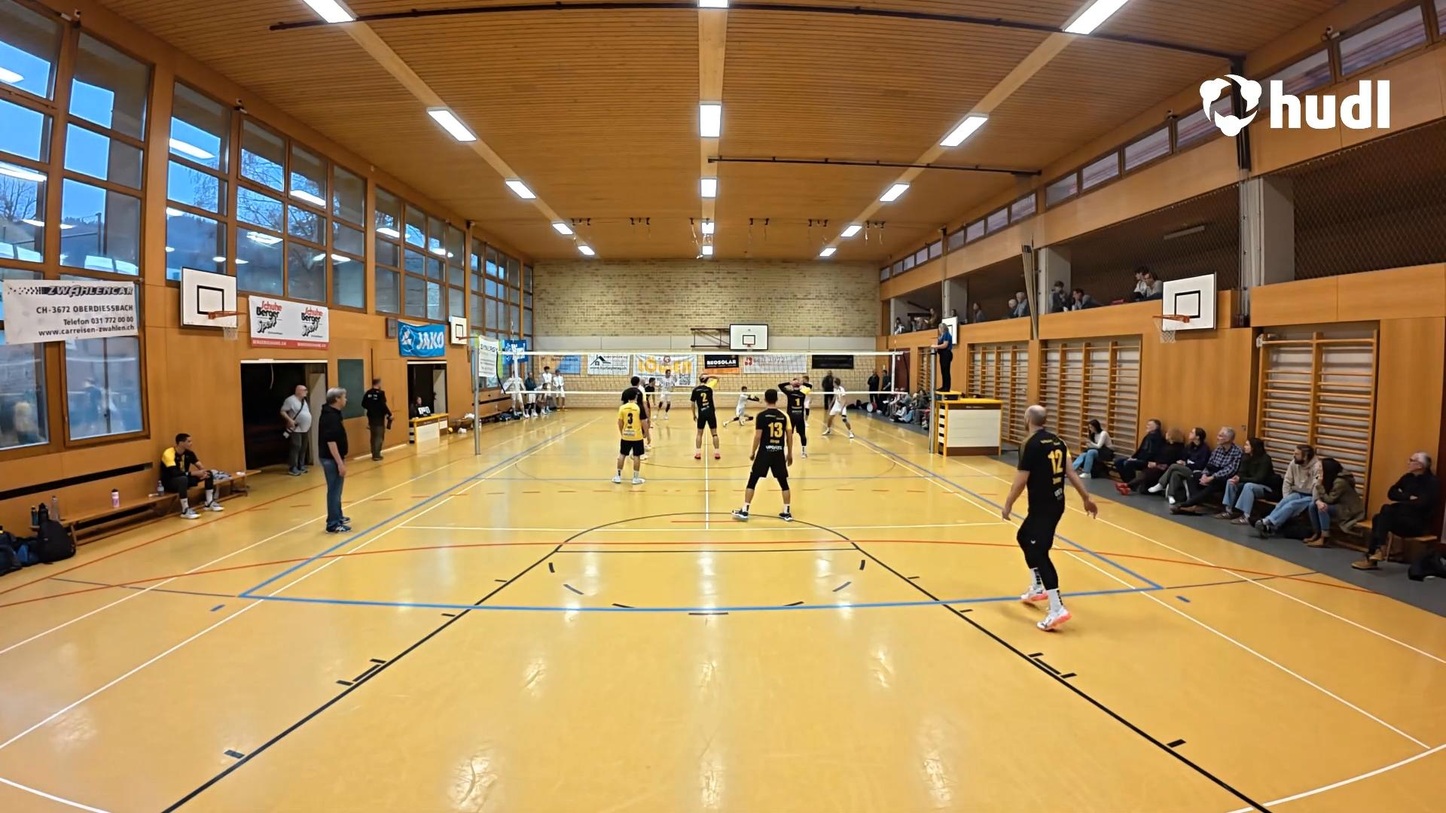Player: (1002, 401, 1092, 631), (736, 385, 794, 519), (613, 390, 650, 484), (691, 371, 723, 461), (618, 373, 651, 445), (818, 378, 856, 439), (783, 380, 811, 456), (658, 372, 677, 422)
Receive: (723, 378, 763, 429)
ball: (747, 390, 757, 404)
